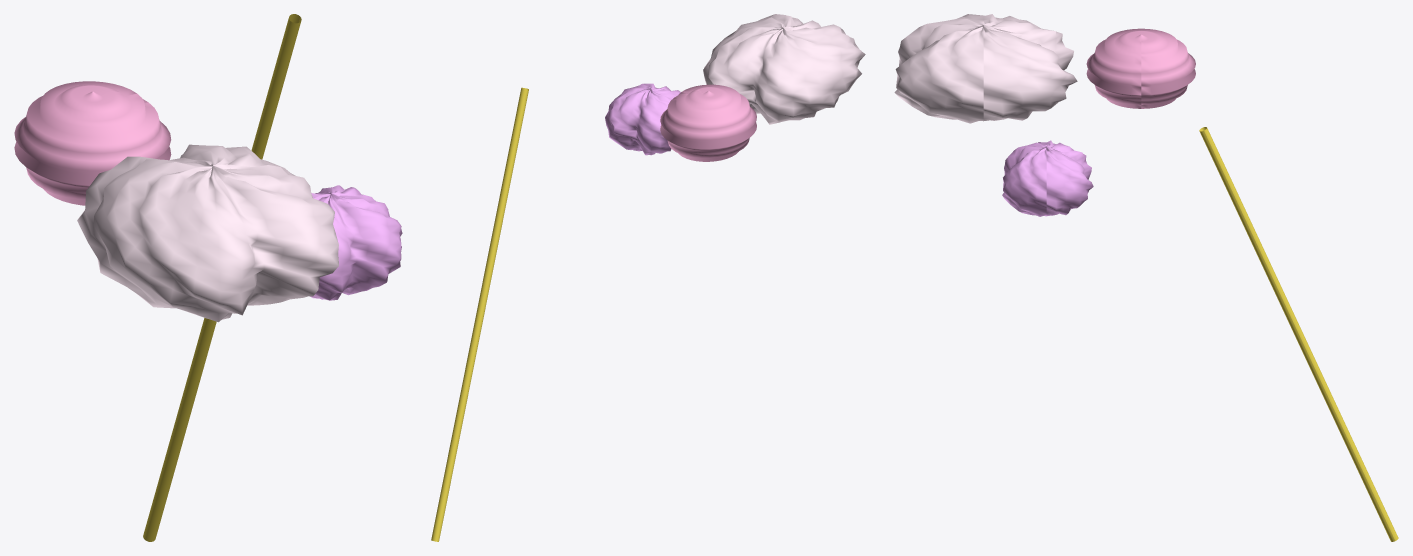
The model's file is nervous.glb.
3 renders of one model, left to right at view 1: azimuth 30°, elevation 25°; view 2: azimuth 150°, elevation 25°; view 3: azimuth 270°, elevation 25°, orthographic. The views are drawn at different scales.
Visible parts, largest first — view 1: Mesh_Avian_Cerebrum, Mesh_Avian_Cerebellum, Mesh_Avian_LobiOptici, Mesh_Avian_PlexusBrachialis; view 2: Mesh_Avian_Cerebrum, Mesh_Avian_Cerebellum, Mesh_Avian_PlexusBrachialis, Mesh_Avian_LobiOptici; view 3: Mesh_Avian_Cerebrum, Mesh_Avian_Cerebellum, Mesh_Avian_LobiOptici, Mesh_Avian_PlexusBrachialis.
Boxes of the visible parts, <box> form: Mesh_Avian_Cerebrum: <box>77,144,338,322</box>; Mesh_Avian_Cerebellum: <box>14,81,171,205</box>; Mesh_Avian_LobiOptici: <box>310,185,402,300</box>; Mesh_Avian_PlexusBrachialis: <box>143,14,301,541</box>; Mesh_Avian_Cerebrum: <box>703,14,865,124</box>; Mesh_Avian_Cerebellum: <box>660,84,756,161</box>; Mesh_Avian_PlexusBrachialis: <box>431,87,528,541</box>; Mesh_Avian_LobiOptici: <box>605,83,680,155</box>; Mesh_Avian_Cerebrum: <box>894,14,1077,123</box>; Mesh_Avian_Cerebellum: <box>1086,28,1195,108</box>; Mesh_Avian_LobiOptici: <box>1002,140,1093,216</box>; Mesh_Avian_PlexusBrachialis: <box>1199,127,1398,541</box>.
Bounding box in the file's own units: 0.1723 × 0.3056 × 0.3198.
